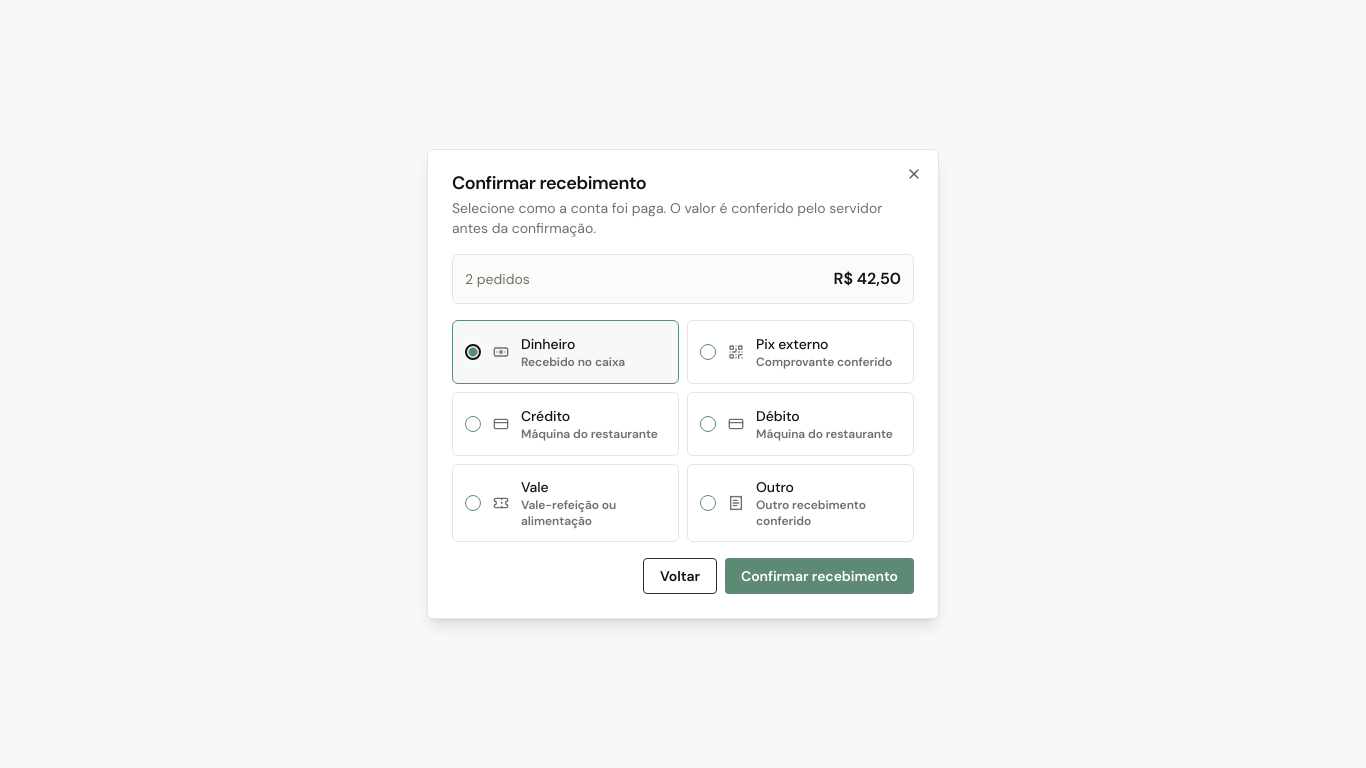
Test: manual payment dialog › shows a safe message for status 401
The image size is (1366, 768).
Click the button "Confirmar recebimento". click: x=820, y=576
box: [725,558,914,594]
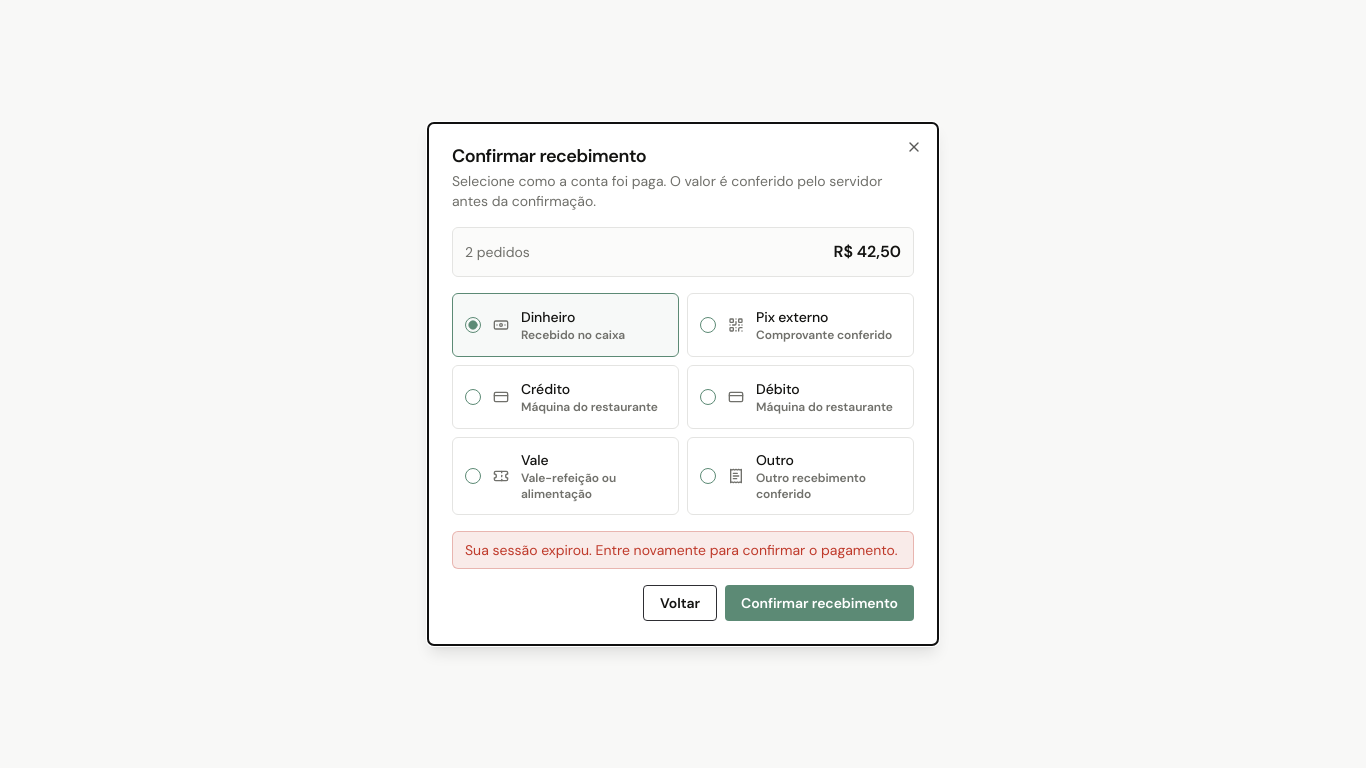
Expected: the message reads "Sua sessão expirou. Entre novamente para confirmar o pagamento.", [465,541,898,559]
